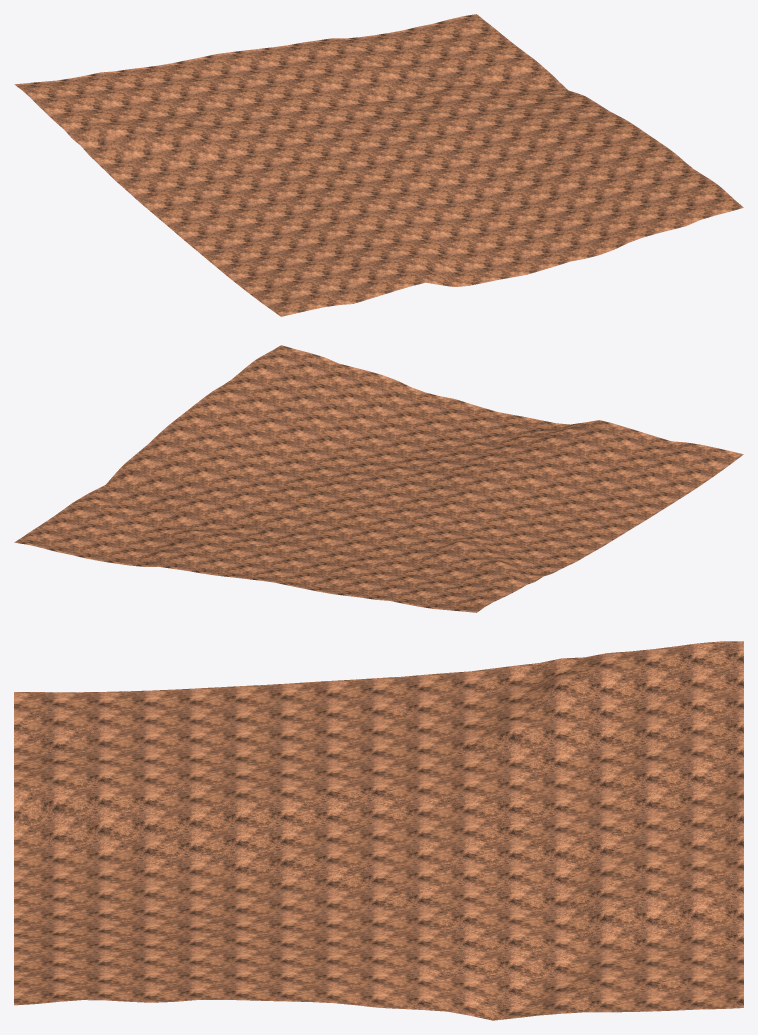
The model's file is terrain_02_21.dae.
The picture shows the model from 3 angles, top to bottom: view 1: azimuth 30°, elevation 25°; view 2: azimuth 150°, elevation 25°; view 3: azimuth 270°, elevation 25°; orthographic projection. The views are drawn at different scales.
Visible parts, largest first — view 1: terrain_02_21-node; view 2: terrain_02_21-node; view 3: terrain_02_21-node.
Boxes of the visible parts, x1=… form: terrain_02_21-node: x1=14, y1=14, x2=743, y2=316; terrain_02_21-node: x1=14, y1=345, x2=743, y2=612; terrain_02_21-node: x1=14, y1=641, x2=743, y2=1020.
Size of the model in its own units: 128 by 128 by 14.47.
Materials: 1 (1 with a texture image).
